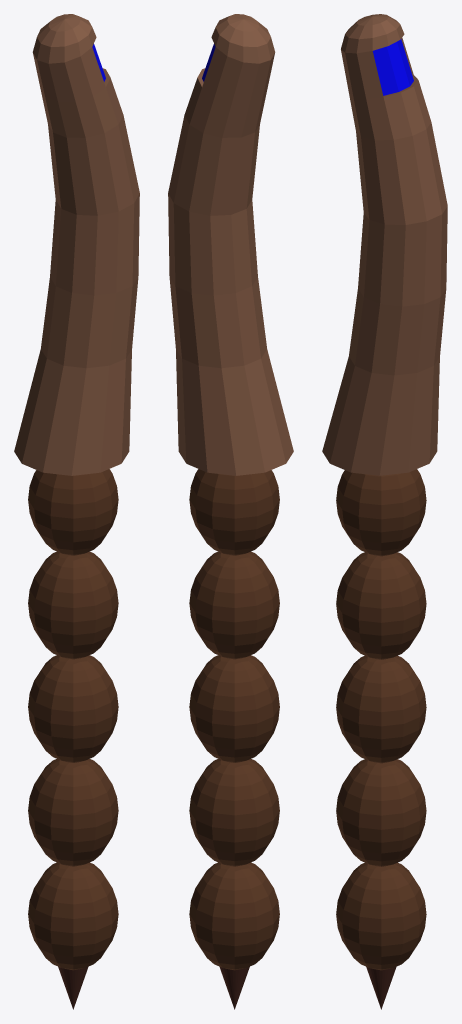
File: Wand 242.glb
3 renders of one model, left to right at view 1: azimuth 30°, elevation 25°; view 2: azimuth 150°, elevation 25°; view 3: azimuth 330°, elevation 25°, orthographic.
Parts seen in each view (by area): view 1: GeneratedWand; view 2: GeneratedWand; view 3: GeneratedWand.
Boxes of the visible parts, x1,y1,x2,y2 form: GeneratedWand: (14, 14, 139, 1009); GeneratedWand: (168, 14, 293, 1009); GeneratedWand: (322, 14, 447, 1009).
Bounding box in the file's own units: 0.0644 × 0.5432 × 0.0572.
